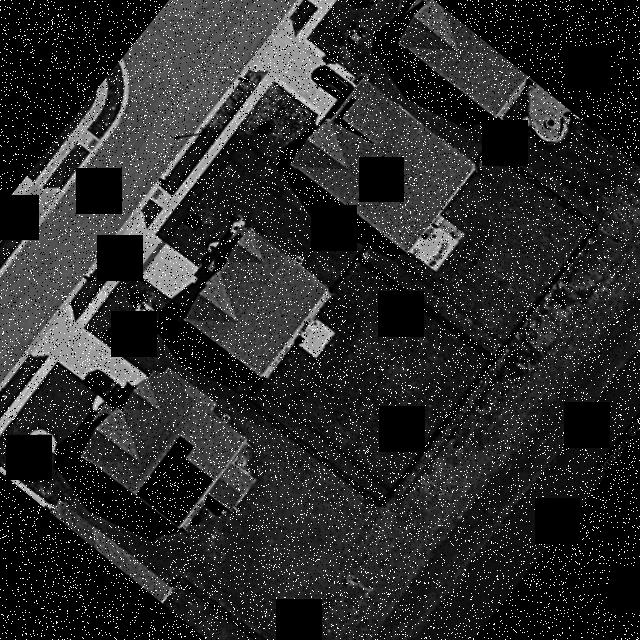Driveway: (141, 243, 197, 300)
Extra Driveway: (101, 212, 162, 271)
Extra Lawn: (156, 134, 238, 238), (161, 116, 224, 194), (141, 200, 160, 227), (96, 263, 119, 276), (118, 270, 133, 285)
Extra Sidewalk: (147, 127, 231, 234), (110, 262, 128, 282)
House: (183, 227, 336, 377)
